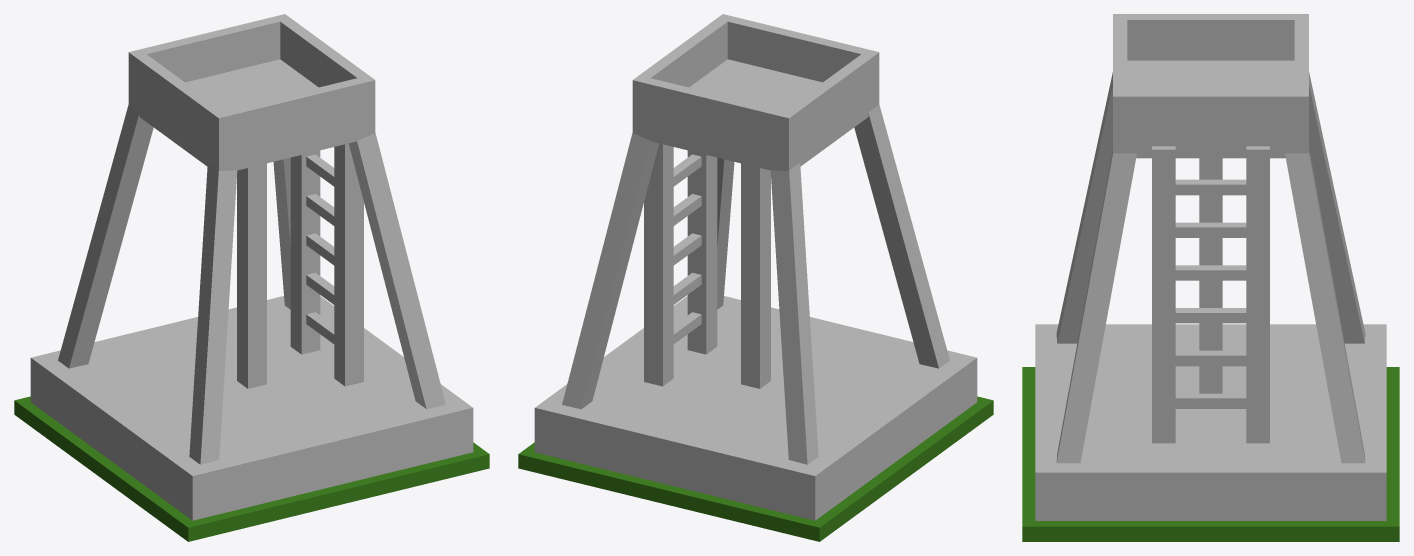
The model's file is lvl20.glb.
The picture shows the model from 3 angles, left to right: view 1: azimuth 30°, elevation 25°; view 2: azimuth 150°, elevation 25°; view 3: azimuth 270°, elevation 25°; orthographic projection. The views are drawn at different scales.
Visible parts, largest first — view 1: Plane.019; view 2: Plane.019; view 3: Plane.019.
Part boxes in pixels (<box>): Plane.019: <box>14,14,489,541</box>; Plane.019: <box>518,14,993,541</box>; Plane.019: <box>1022,14,1399,541</box>.
Bounding box in the file's own units: 4 × 4.76 × 4.
